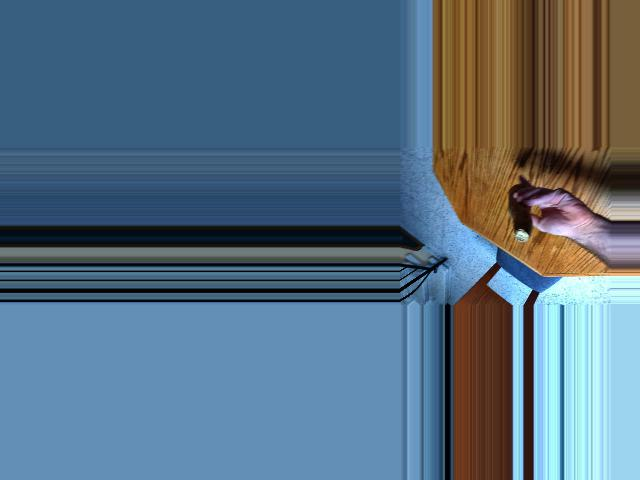sweet_potato: (508, 187, 534, 232)
